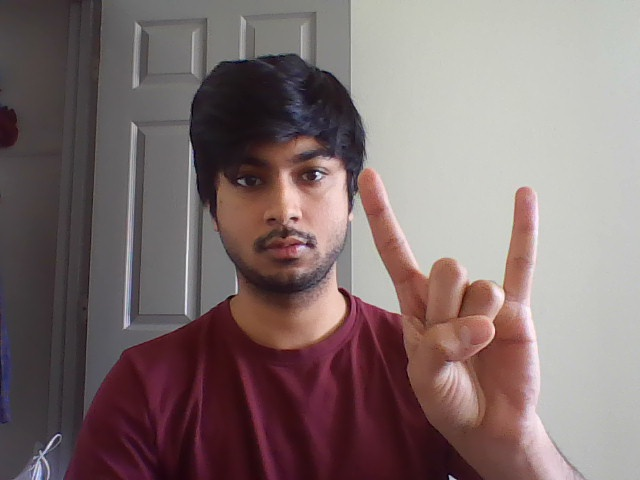help: (351, 162, 555, 312)
